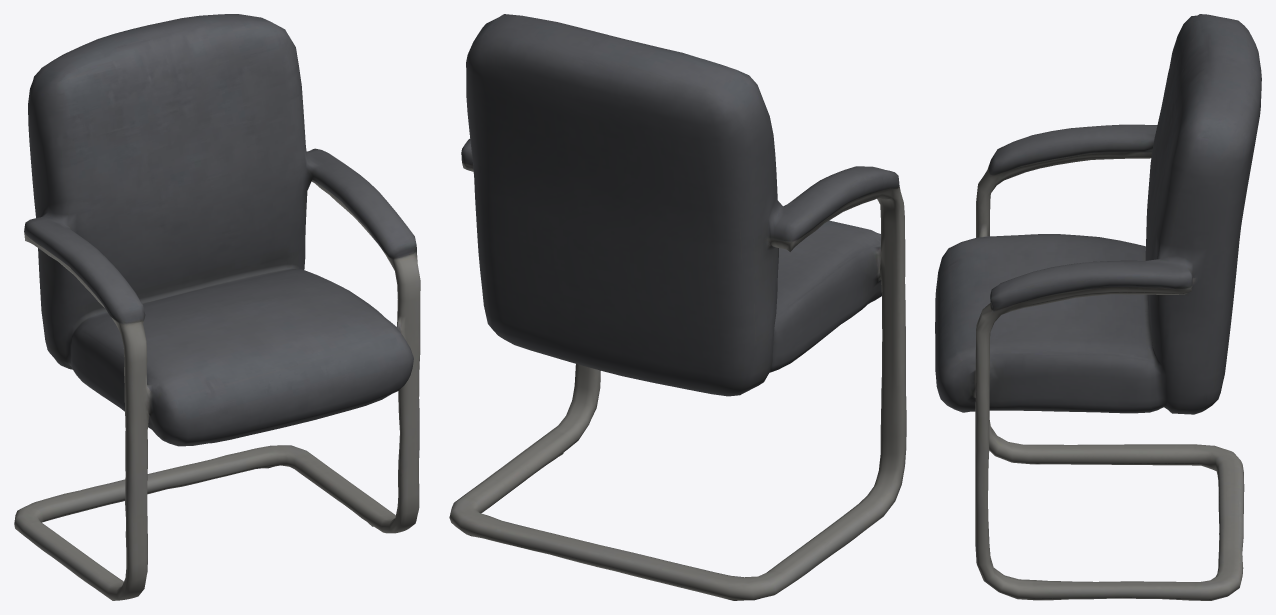
Rendered from meeting_chair.glb.
3 renders of one model, left to right at view 1: azimuth 30°, elevation 25°; view 2: azimuth 150°, elevation 25°; view 3: azimuth 270°, elevation 25°, orthographic. The views are drawn at different scales.
Parts seen in each view (by area): view 1: tripo_node_f7e612a7; view 2: tripo_node_f7e612a7; view 3: tripo_node_f7e612a7.
Boxes of the visible parts, box(x1,y1,x2,y2) form: tripo_node_f7e612a7: box(14, 14, 420, 600); tripo_node_f7e612a7: box(449, 14, 906, 600); tripo_node_f7e612a7: box(935, 14, 1261, 600).
Bounding box in the file's own units: 67.74 × 99.78 × 61.65.
1 material, 1 textured.
